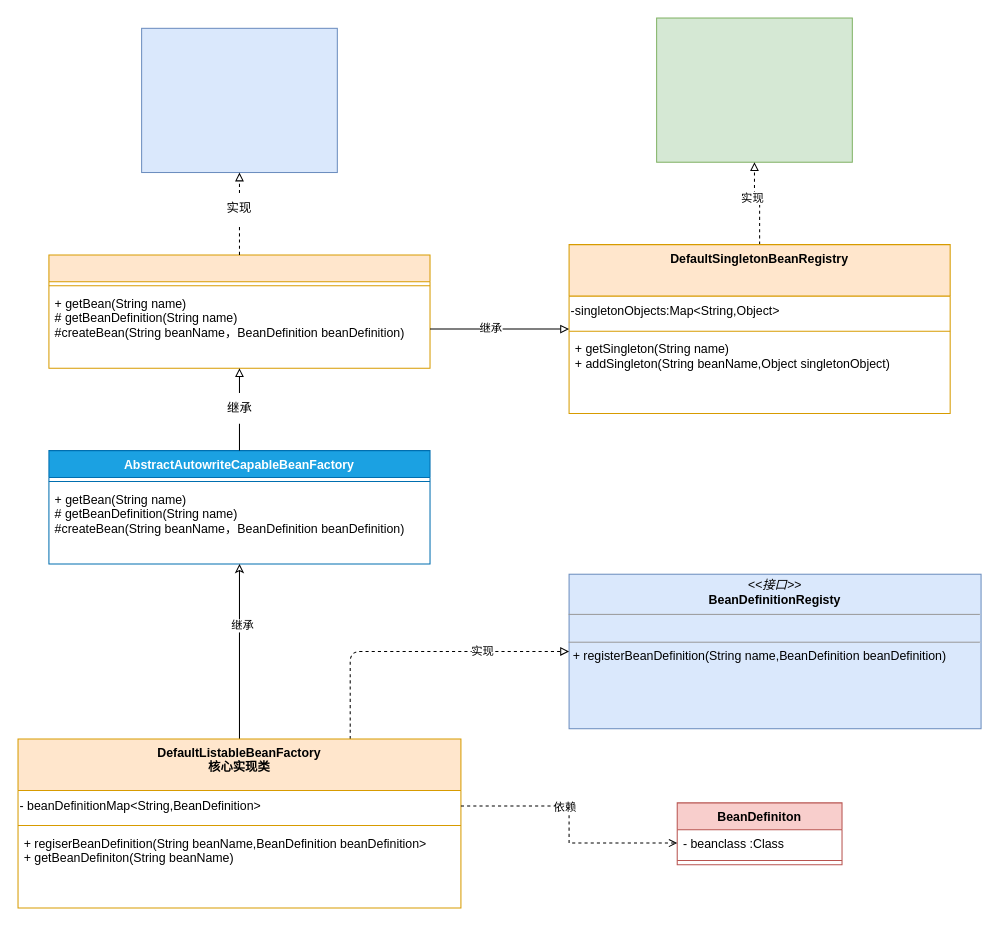
Some shapes in this 999 by 929 pixel diagram are drawn without their labels. Each missing label, with the box of its shape:
<<接口>> BeanFactory + getBean(String name): (141, 27, 337, 173)
<<接口>> SingleLetonRegistery + getSingleton(String name): (656, 17, 852, 162)
AbstractBeanFactory: (48, 254, 430, 368)
